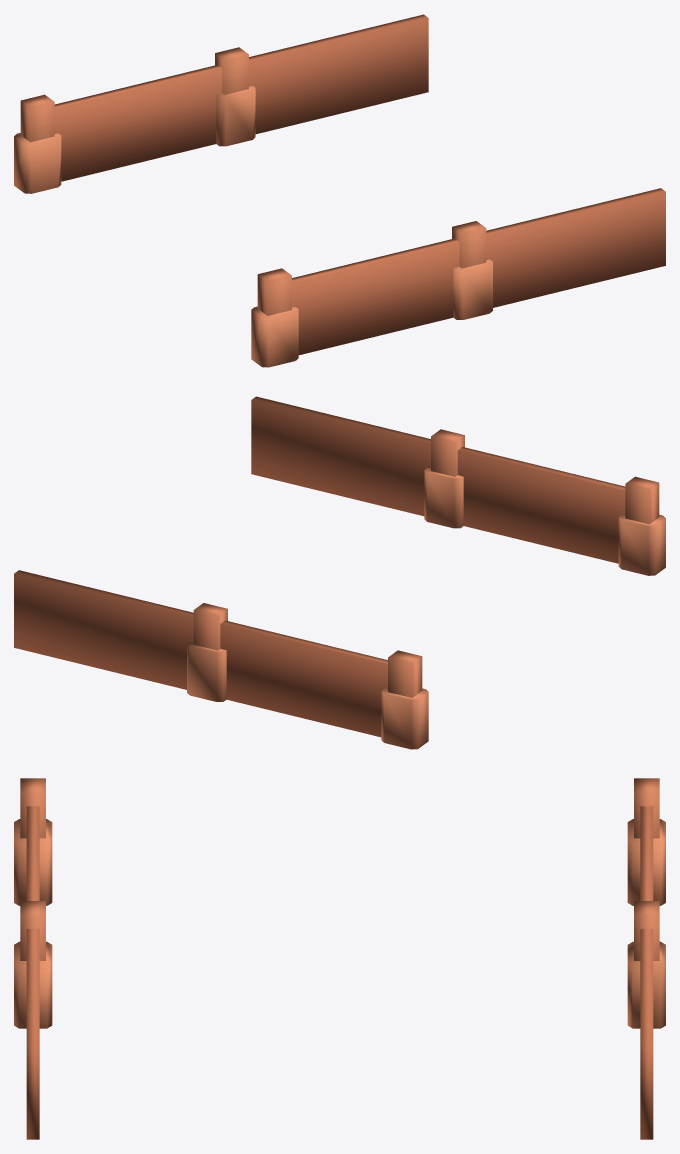
Rendered from fence-low_lev1.glb.
The picture shows the model from 3 angles, top to bottom: view 1: azimuth 30°, elevation 25°; view 2: azimuth 150°, elevation 25°; view 3: azimuth 270°, elevation 25°; orthographic projection. The views are drawn at different scales.
Visible parts, largest first — view 1: fence-low_lev1; view 2: fence-low_lev1; view 3: fence-low_lev1.
Boxes of the visible parts, left/top/right/bottom form: fence-low_lev1: left=14, top=14, right=665, bottom=367; fence-low_lev1: left=14, top=396, right=665, bottom=749; fence-low_lev1: left=14, top=778, right=665, bottom=1139.
Size of the model in its own units: 6.49 by 1.28 by 6.96.
1 material, 1 textured.
